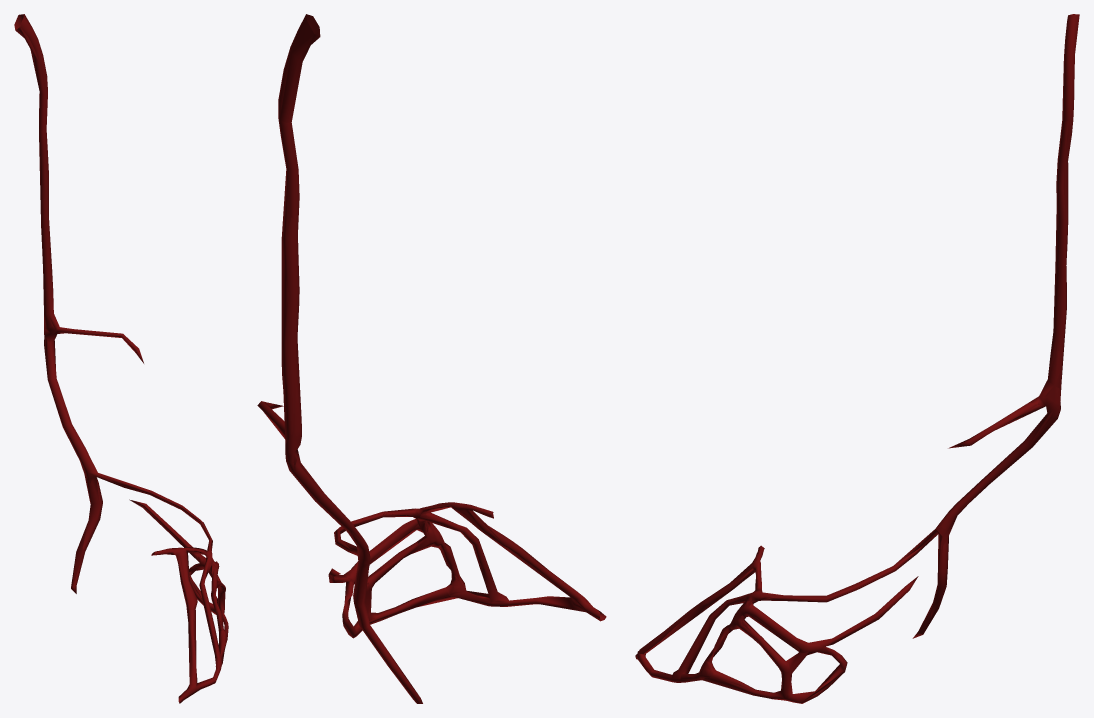
File: R digitales medialis.fbx
3 renders of one model, left to right at view 1: azimuth 30°, elevation 25°; view 2: azimuth 150°, elevation 25°; view 3: azimuth 270°, elevation 25°, orthographic. The views are drawn at different scales.
Visible parts, largest first — view 1: R digitales medialis, R digitales medialis low; view 2: R digitales medialis, R digitales medialis low; view 3: R digitales medialis, R digitales medialis low.
Boxes of the visible parts, x1=… form: R digitales medialis: x1=14, y1=14, x2=228, y2=703; R digitales medialis low: x1=14, y1=14, x2=228, y2=701; R digitales medialis: x1=257, y1=14, x2=605, y2=703; R digitales medialis low: x1=264, y1=14, x2=606, y2=694; R digitales medialis: x1=635, y1=14, x2=1079, y2=703; R digitales medialis low: x1=636, y1=18, x2=1079, y2=702.
Bounding box in the file's own units: 2.55 × 12.31 × 7.5.
